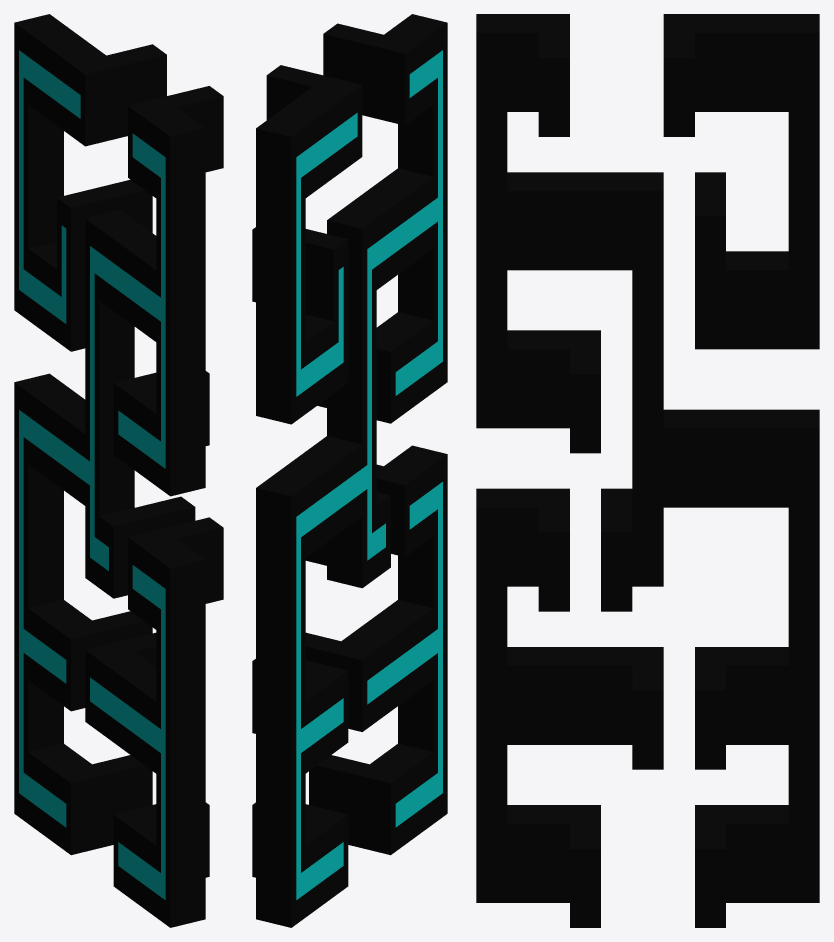
Rendered from Wall dec1.fbx.
The picture shows the model from 3 angles, left to right: view 1: azimuth 30°, elevation 25°; view 2: azimuth 150°, elevation 25°; view 3: azimuth 270°, elevation 25°; orthographic projection. The views are drawn at different scales.
Visible parts, largest first — view 1: Cube; view 2: Cube; view 3: Cube.
Boxes of the visible parts, bbox=[...] form: Cube: bbox=[14, 14, 223, 927]; Cube: bbox=[252, 14, 447, 927]; Cube: bbox=[476, 14, 819, 927].
Size of the model in its own units: 60.41 by 559 by 200.
